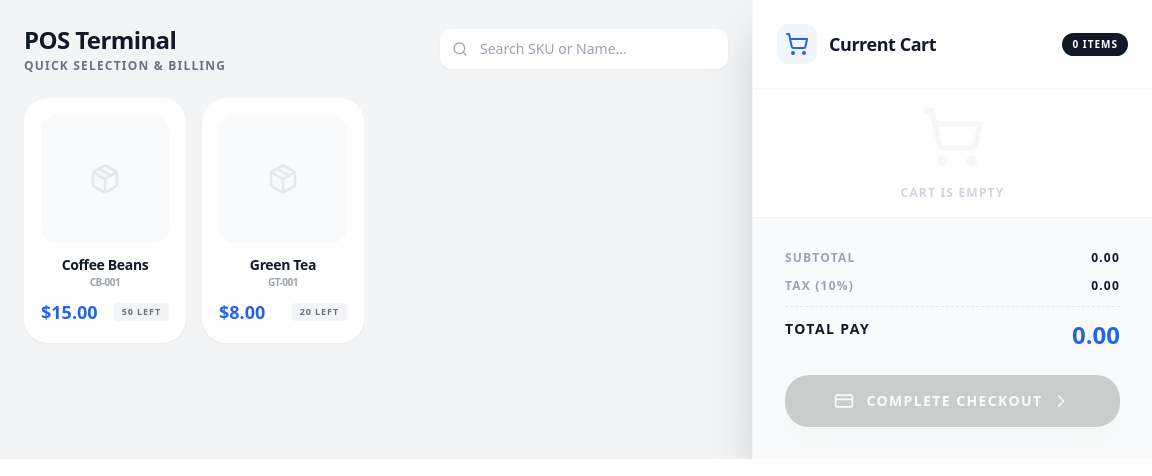
Test case: POSPage — Story 10.2: POS Interface UI › increments quantity when same product is added twice
Expected: the heading "Coffee Beans" is shown, [62,255,148,274]
Click the text "Coffee Beans" at (105, 220), box [24,98,186,343]
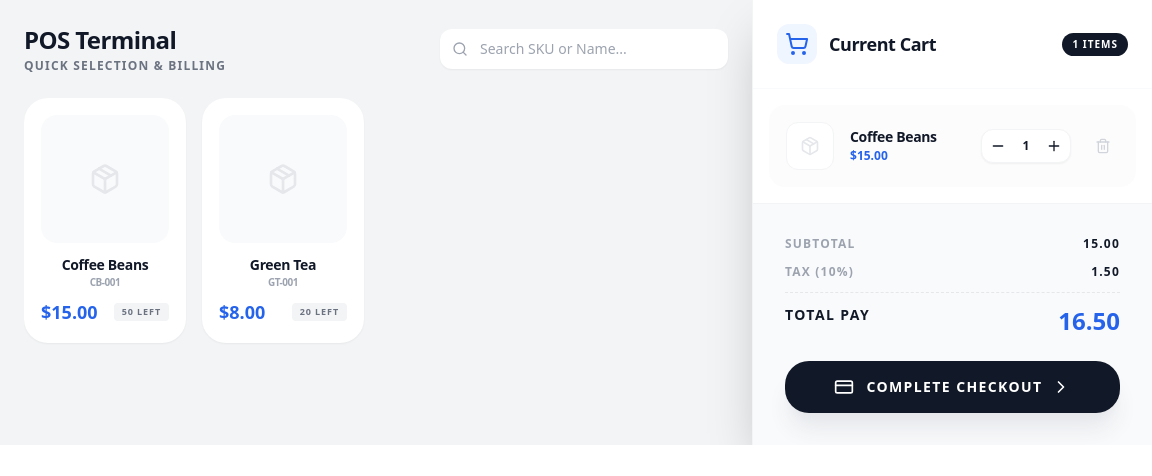
Click the text "Coffee Beans" at (105, 220), box [24,98,186,343]
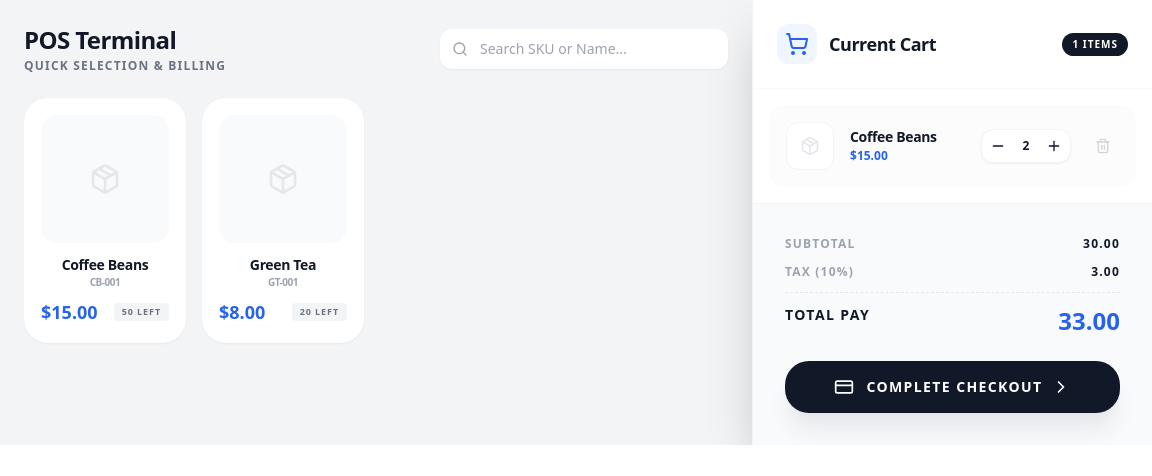
Result: the text "1 Items" is shown at [1062,32,1128,56]
Result: the text "2" is shown at [1023,137,1030,154]
